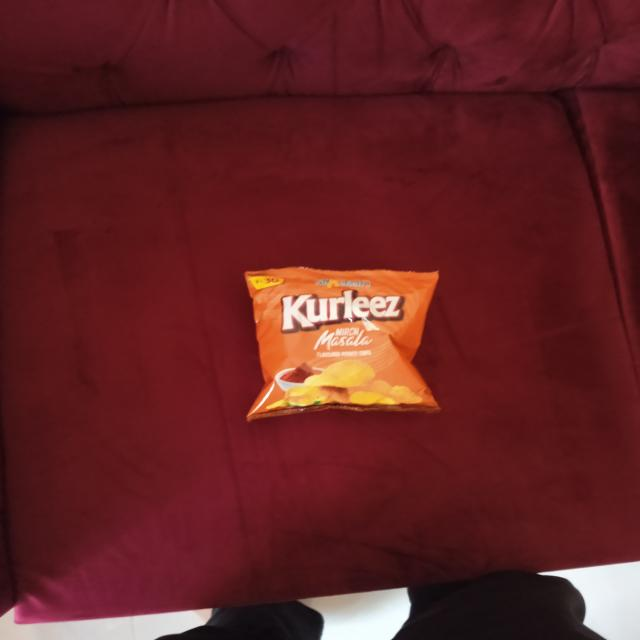Plastic: (251, 271, 438, 414)
